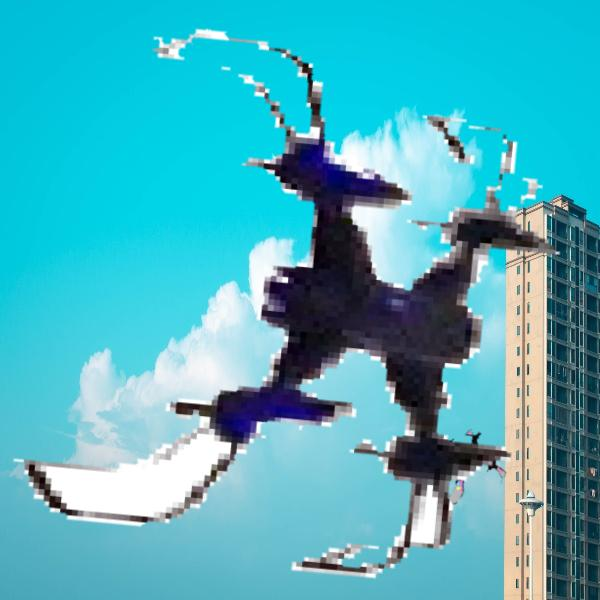drone: (6, 10, 592, 596), (414, 423, 505, 514)
